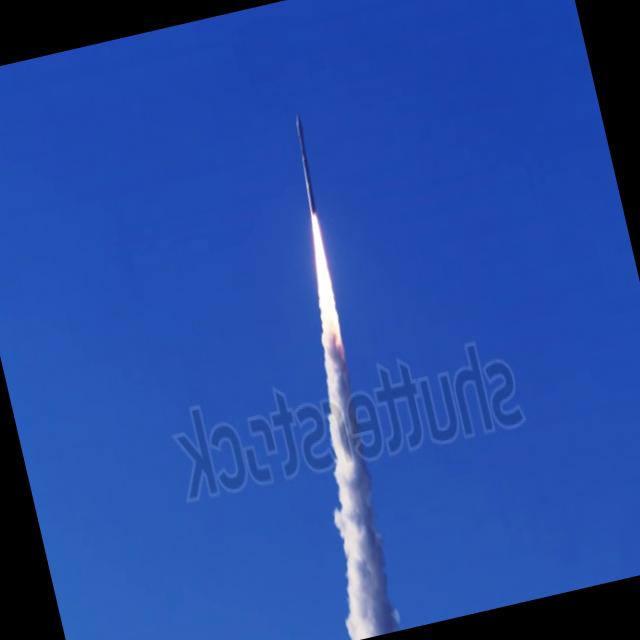rocket: (267, 103, 361, 366)
